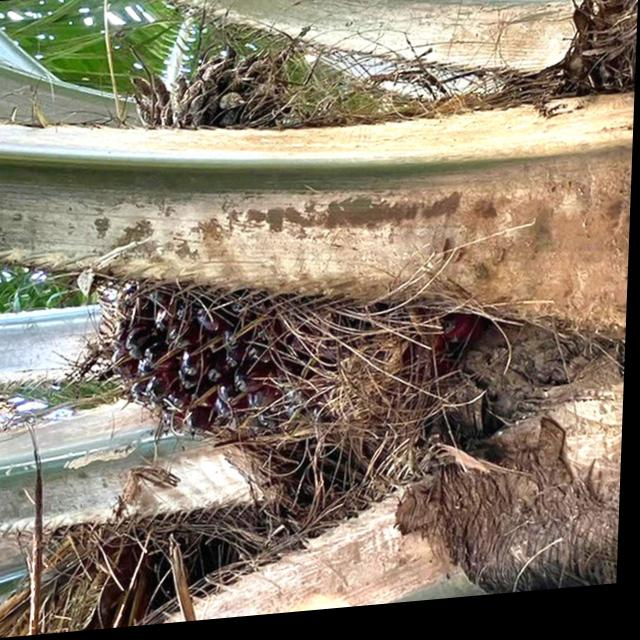ripe: (79, 255, 437, 462)
